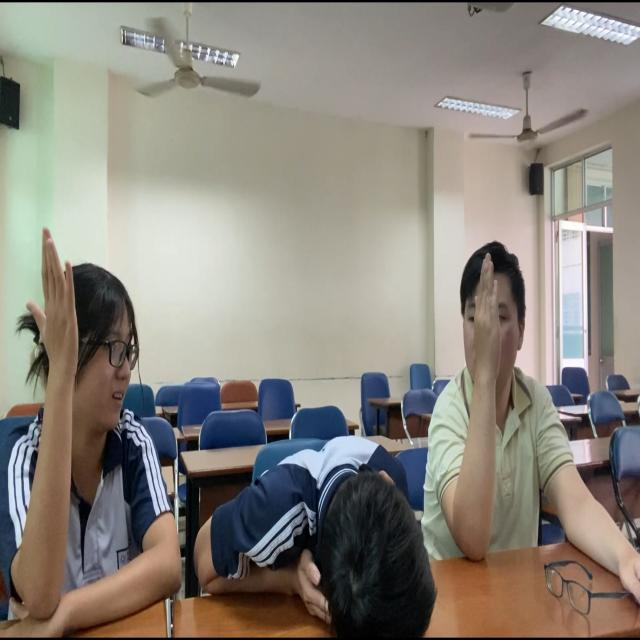raise_hand: (434, 240, 584, 631), (3, 221, 140, 640)
sleep: (192, 444, 440, 640)
